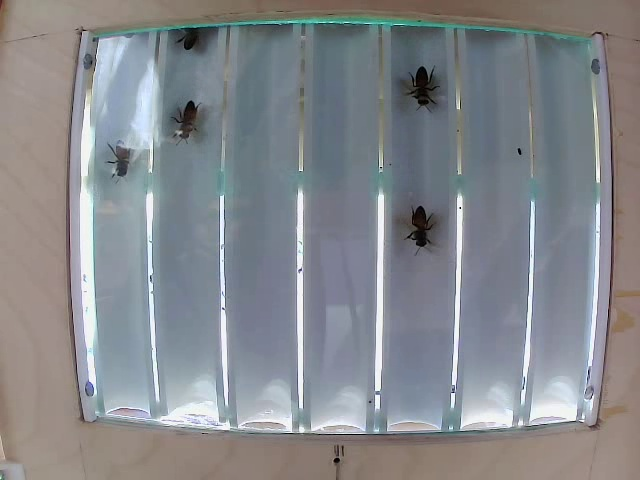bee: (403, 201, 438, 256), (167, 107, 214, 146), (106, 140, 144, 183), (405, 55, 430, 112)
